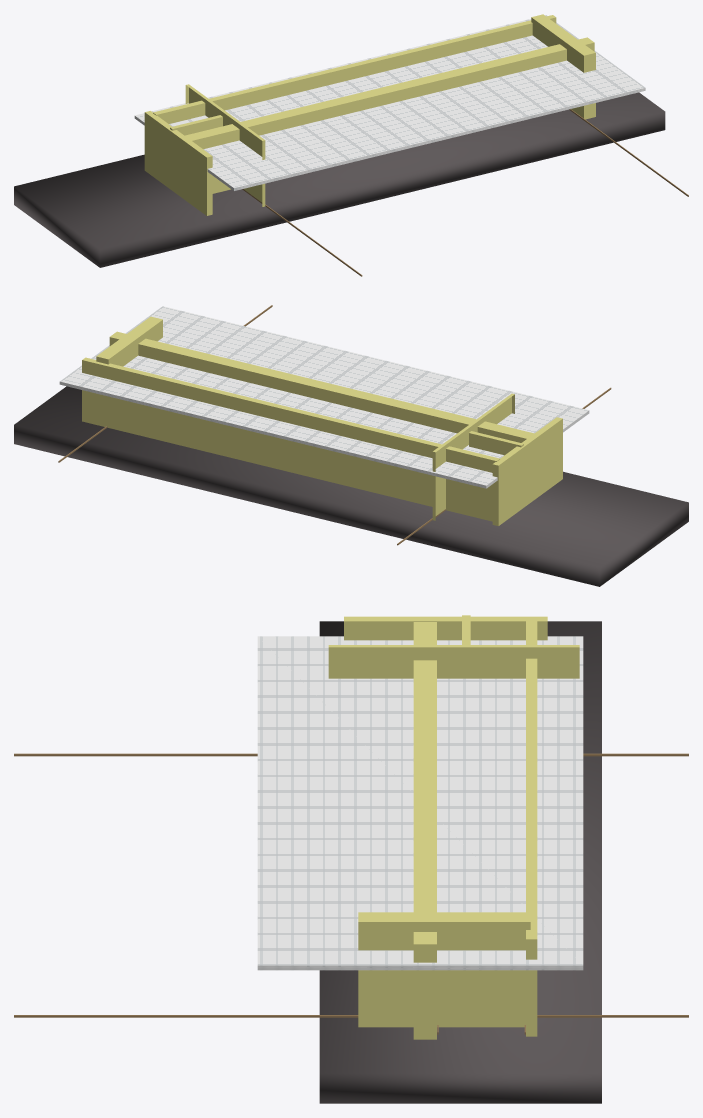
File: escena.glb
3 renders of one model, top to bottom at view 1: azimuth 30°, elevation 25°; view 2: azimuth 150°, elevation 25°; view 3: azimuth 270°, elevation 25°, orthographic. The views are drawn at different scales.
Visible parts, largest first — view 1: Cube, Cube.005, Cube.004, Cube.001, Cube.008, Cube.003, Cube.002, Cube.007; view 2: Cube, Cube.005, Cube.001, Cube.004, Cube.008, Cube.002, Cube.003, Cube.007; view 3: Cube.005, Cube, Cube.003, Cube.004, Cube.002, Cube.001, Cube.008, Cube.011, Cube.010.
Boxes of the visible parts, <box> form: Cube: <box>14,92,665,267</box>; Cube.005: <box>134,15,645,190</box>; Cube.004: <box>185,37,594,193</box>; Cube.001: <box>153,15,556,123</box>; Cube.008: <box>144,111,212,215</box>; Cube.003: <box>531,14,595,119</box>; Cube.002: <box>185,84,265,206</box>; Cube.007: <box>170,115,222,135</box>; Cube: <box>14,386,688,586</box>; Cube.005: <box>59,306,589,488</box>; Cube.001: <box>82,357,499,521</box>; Cube.004: <box>109,331,534,442</box>; Cube.008: <box>492,417,562,526</box>; Cube.002: <box>432,393,514,520</box>; Cube.003: <box>96,316,162,366</box>; Cube.007: <box>469,431,523,455</box>; Cube.005: <box>257,636,583,970</box>; Cube: <box>319,621,601,1103</box>; Cube.003: <box>358,912,530,1027</box>; Cube.004: <box>413,622,436,1039</box>; Cube.002: <box>328,645,579,678</box>; Cube.001: <box>526,619,537,1036</box>; Cube.008: <box>344,616,547,640</box>; Cube.011: <box>14,1015,688,1017</box>; Cube.010: <box>14,753,688,756</box>.
Bounding box in the file's own units: 51.62 × 7.39 × 32.57.
7 materials, 1 textured.
